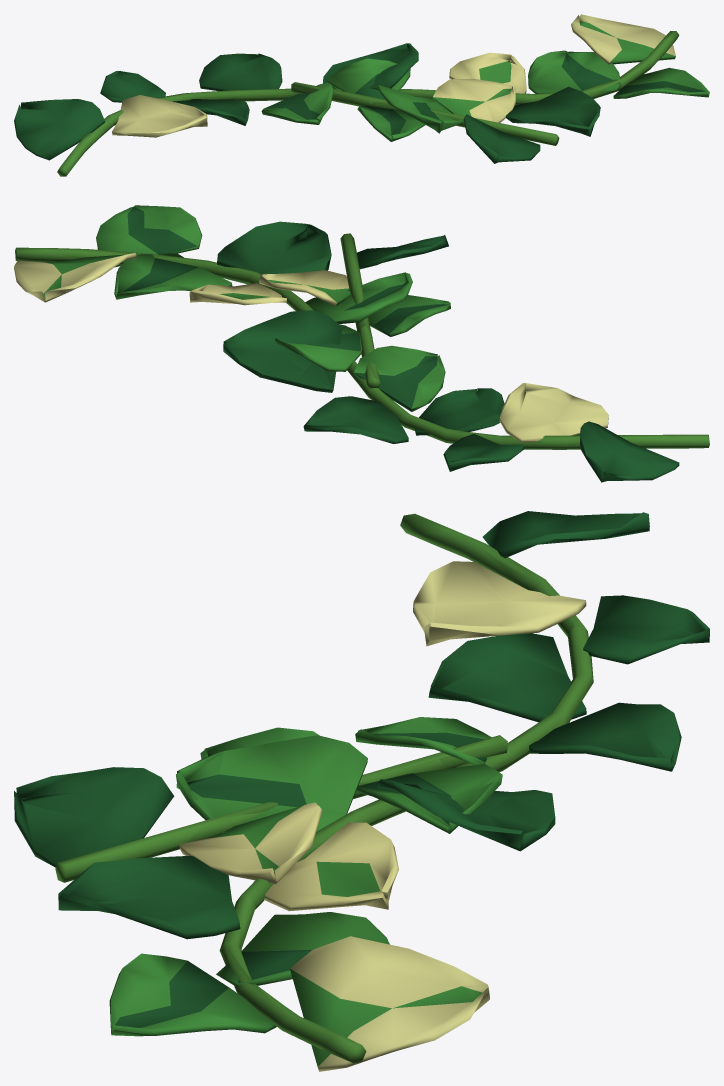
File: canopy_pothos_trail_lod1.glb
3 renders of one model, top to bottom at view 1: azimuth 30°, elevation 25°; view 2: azimuth 150°, elevation 25°; view 3: azimuth 270°, elevation 25°, orthographic. The views are drawn at different scales.
Visible parts, largest first — view 1: canopy_pothos_trail.001; view 2: canopy_pothos_trail.001; view 3: canopy_pothos_trail.001.
Part boxes in pixels (box(x1,y1,x2,y2)): canopy_pothos_trail.001: box(14, 14, 709, 176); canopy_pothos_trail.001: box(14, 205, 709, 482); canopy_pothos_trail.001: box(14, 511, 709, 1071).
Bounding box in the file's own units: 10.12 × 0.6464 × 5.49.
